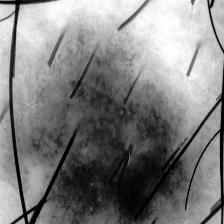Benign Marking or Mole: (19, 46, 200, 224)
